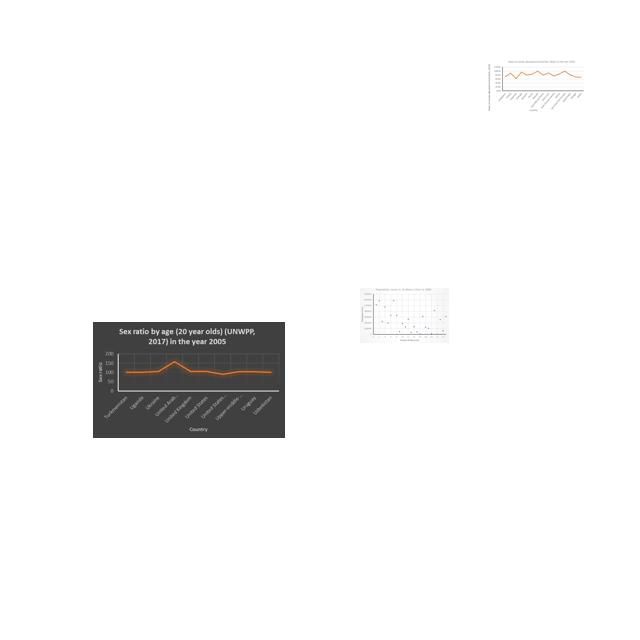Graph: (93, 322, 285, 438), (487, 58, 586, 114), (360, 288, 449, 343)
